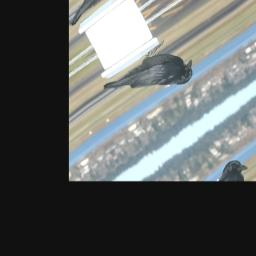Crow: (101, 31, 199, 129)
